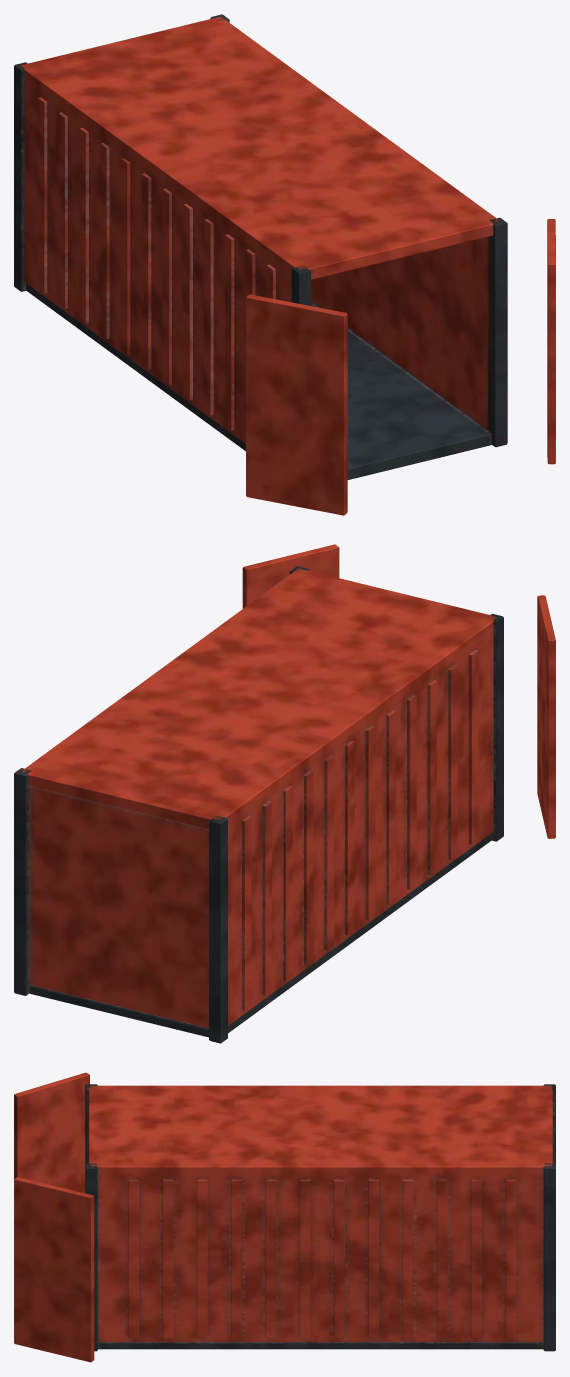
File: container_red_open.glb
3 renders of one model, top to bottom at view 1: azimuth 30°, elevation 25°; view 2: azimuth 150°, elevation 25°; view 3: azimuth 270°, elevation 25°, orthographic. The views are drawn at different scales.
Visible parts, largest first — view 1: ContainerRedOpen; view 2: ContainerRedOpen; view 3: ContainerRedOpen.
Boxes of the visible parts, x1,y1,x2,y2 form: ContainerRedOpen: (14, 14, 555, 515); ContainerRedOpen: (14, 544, 555, 1043); ContainerRedOpen: (14, 1072, 555, 1362).
Bounding box in the file's own units: 3.81 × 2.6 × 6.96.
1 material, 1 textured.
